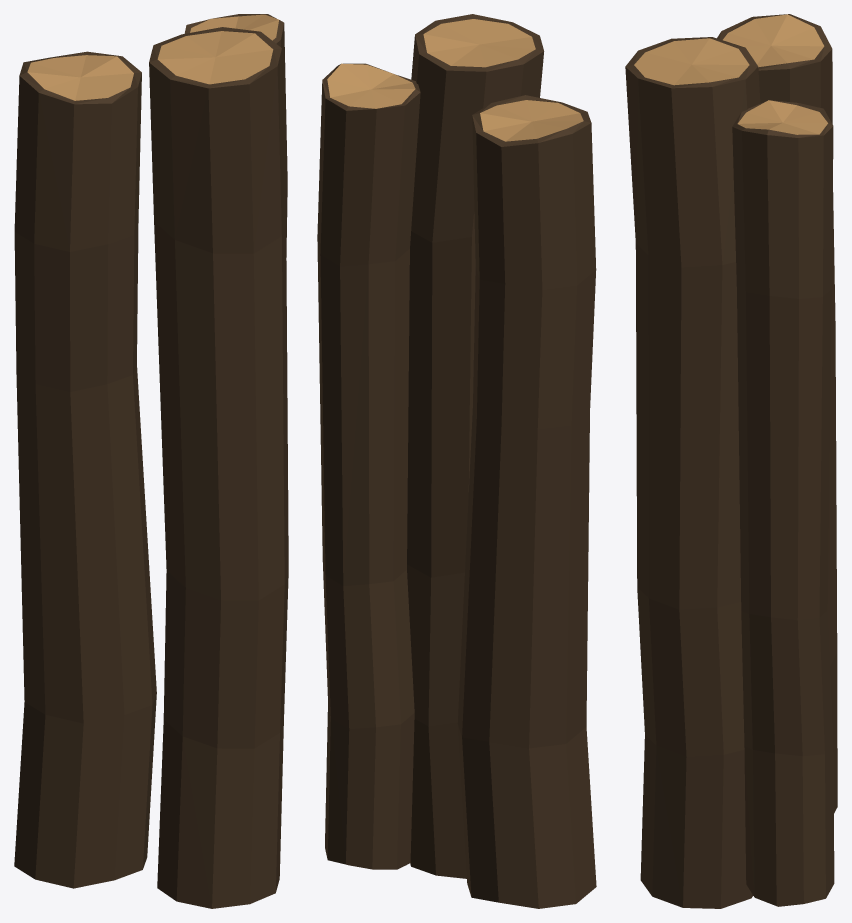
File: logs.obj
The picture shows the model from 3 angles, left to right: view 1: azimuth 30°, elevation 25°; view 2: azimuth 150°, elevation 25°; view 3: azimuth 270°, elevation 25°; orthographic projection. The views are drawn at different scales.
Parts seen in each view (by area): view 1: Object.1; view 2: Object.1; view 3: Object.1.
Part boxes in pixels (x1=…): Object.1: x1=14, y1=14, x2=288, y2=908; Object.1: x1=317, y1=14, x2=596, y2=908; Object.1: x1=625, y1=14, x2=837, y2=908.
Bounding box in the file's own units: 809 × 2473 × 579.
Materials: 1 (1 with a texture image).
